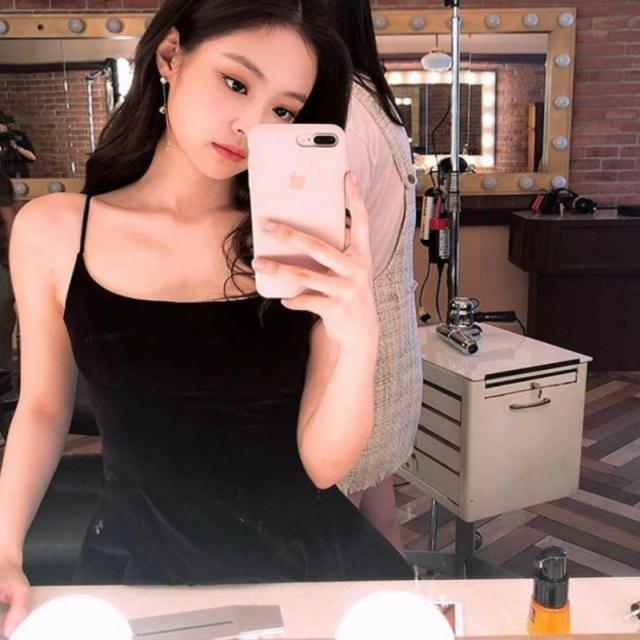phone: (248, 124, 346, 298)
